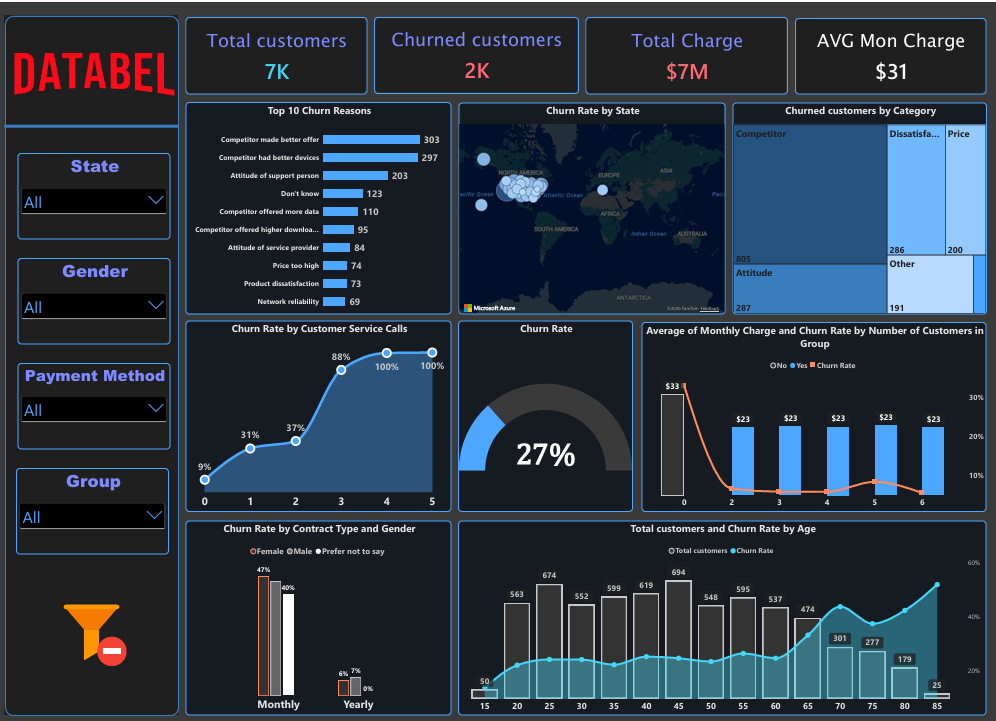

This screenshot's page, from the dashboard's own definition file:
{"tool":"powerbi","page":{"name":"Databel Dashboard","canvas":[2000,1440],"ordinal":0},"visuals":[{"type":"shape","box":[12,26,348,1400],"z":0},{"type":"image","box":[11.3,25.5,348.7,229.6],"z":1000},{"type":"shape","box":[11.3,19.8,348.7,453.5],"z":2000},{"type":"slicer","title":"State","fields":{"Values":["Databel - Data.State"]},"box":[36.7,300,306.1,172.9],"z":3000},{"type":"slicer","title":"Gender","fields":{"Values":["Databel - Data.Gender"]},"box":[36.7,510,306.1,172.9],"z":4000},{"type":"slicer","title":"Group","fields":{"Values":["Databel - Data.Group"]},"box":[34,930,306.1,172.9],"z":5000},{"type":"image","box":[70,1186,230,140],"z":6000},{"type":"cardVisual","fields":{"Data":["_Measures.Total customers"]},"box":[373.3,28.3,363.3,155],"z":7000},{"type":"cardVisual","fields":{"Data":["_Measures.Churned customers"]},"box":[750,32,410,154],"z":8000},{"type":"cardVisual","fields":{"Data":["_Measures.Total Charge"]},"box":[1173.3,31.7,405,155],"z":9000},{"type":"cardVisual","fields":{"Data":["_Measures.AVG Mon Charge"]},"box":[1593.3,33.3,383.3,153.3],"z":10000},{"type":"clusteredBarChart","title":"Top 10 Churn Reasons","fields":{"Category":["Databel - Data.Churn Reason"],"Y":["_Measures.Churned customers"]},"box":[373.3,198.3,532.1,424.7],"z":11000},{"type":"azureMap","title":"Churn Rate by State","fields":{"Category":["Databel - Data.State"],"Size":["_Measures.Churn Rate"]},"box":[918.6,198.6,534.3,424.3],"z":12000},{"type":"treemap","title":"Churned customers by Category","fields":{"Group":["Databel - Data.Churn Category","Databel - Data.Churn Reason"],"Values":["_Measures.Churned customers"]},"box":[1467.1,198.6,508.6,424.3],"z":13000},{"type":"lineChart","fields":{"Category":["Databel - Data.Customer Service Calls"],"Y":["_Measures.Churn Rate"]},"box":[372.5,635,532.5,382.5],"z":14000},{"type":"gauge","fields":{"Y":["_Measures.Churn Rate"]},"box":[917.5,635,350,382.5],"z":15000},{"type":"lineClusteredColumnComboChart","title":"Average of Monthly Charge and Churn Rate by Number of Customers in Group","fields":{"Category":["Databel - Data.Number of Customers in Group"],"Series":["Databel - Data.Group"],"Y":["Avg(Databel - Data.Monthly Charge)"],"Y2":["_Measures.Churn Rate"]},"box":[1285,637.5,690,380],"z":16000},{"type":"lineClusteredColumnComboChart","title":"Total customers and Churn Rate by Age","fields":{"Category":["Databel - Data.Age (bins)"],"Y":["_Measures.Total customers"],"Y2":["_Measures.Churn Rate"]},"box":[917.5,1035,1057.5,390],"z":17000},{"type":"clusteredColumnChart","title":"Churn Rate by Contract Type and Gender","fields":{"Category":["Databel - Data.Contract Category"],"Series":["Databel - Data.Gender"],"Y":["_Measures.Churn Rate"]},"box":[372.5,1035,532.5,390],"z":18000},{"type":"slicer","title":"Payment Method","fields":{"Values":["Databel - Data.Payment Method"]},"box":[36.7,720,306.1,172.9],"z":18001}]}

Visuals, with their boxes in screenshot pixels (x1, y1, x2, y2), scaled from the page's 2000x1440 canvas onto the 996x721 screenshot:
shape: bbox=(6, 13, 179, 714)
image: bbox=(6, 13, 179, 128)
shape: bbox=(6, 10, 179, 237)
"State" slicer: bbox=(18, 150, 171, 237)
"Gender" slicer: bbox=(18, 255, 171, 342)
"Group" slicer: bbox=(17, 466, 169, 552)
image: bbox=(35, 594, 149, 664)
cardVisual - _Measures.Total customers: bbox=(186, 14, 367, 92)
cardVisual - _Measures.Churned customers: bbox=(374, 16, 578, 93)
cardVisual - _Measures.Total Charge: bbox=(584, 16, 786, 93)
cardVisual - _Measures.AVG Mon Charge: bbox=(793, 17, 984, 93)
"Top 10 Churn Reasons" clusteredBarChart: bbox=(186, 99, 451, 312)
"Churn Rate by State" azureMap: bbox=(457, 99, 724, 312)
"Churned customers by Category" treemap: bbox=(731, 99, 984, 312)
lineChart - Databel - Data.Customer Service Calls x _Measures.Churn Rate: bbox=(186, 318, 451, 509)
gauge - _Measures.Churn Rate: bbox=(457, 318, 631, 509)
"Average of Monthly Charge and Churn Rate by Number of Customers in Group" lineClusteredColumnComboChart: bbox=(640, 319, 984, 509)
"Total customers and Churn Rate by Age" lineClusteredColumnComboChart: bbox=(457, 518, 984, 713)
"Churn Rate by Contract Type and Gender" clusteredColumnChart: bbox=(186, 518, 451, 713)
"Payment Method" slicer: bbox=(18, 360, 171, 447)
